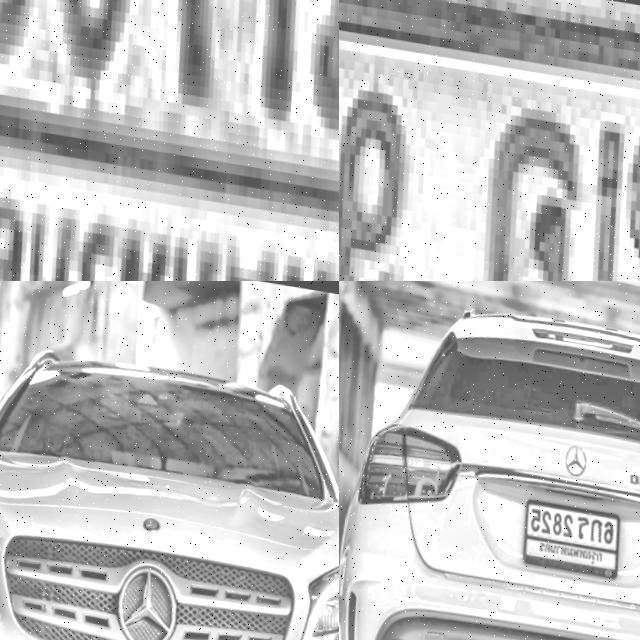license-plate: (0, 0, 339, 281), (339, 0, 640, 281), (512, 492, 620, 579)
